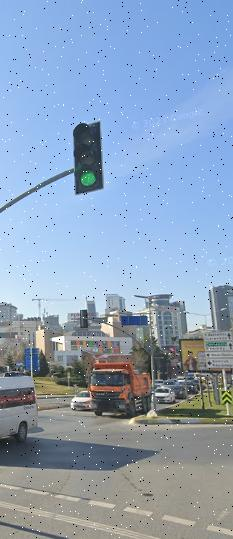greenlight: (71, 122, 107, 194)
